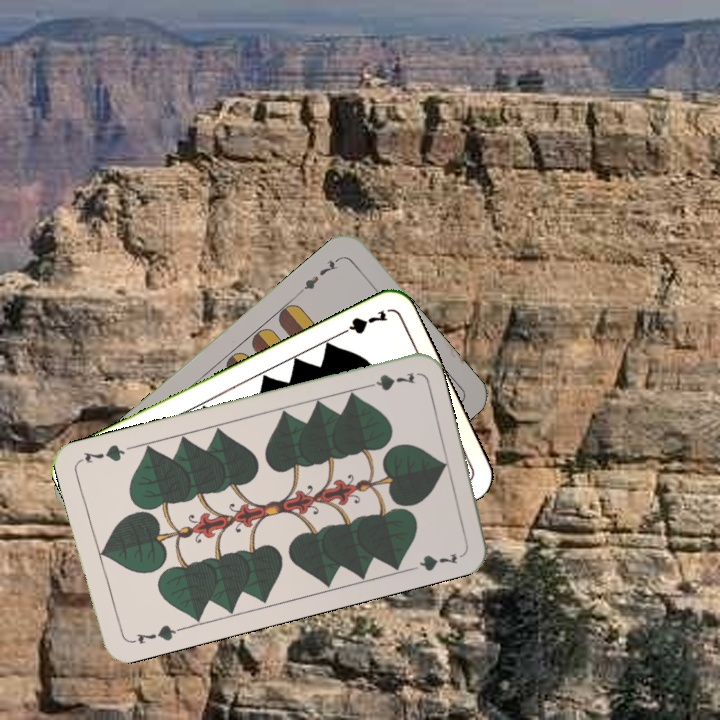E7: (294, 253, 343, 296)
G7: (333, 305, 390, 339), (125, 620, 184, 647), (359, 368, 418, 393)
